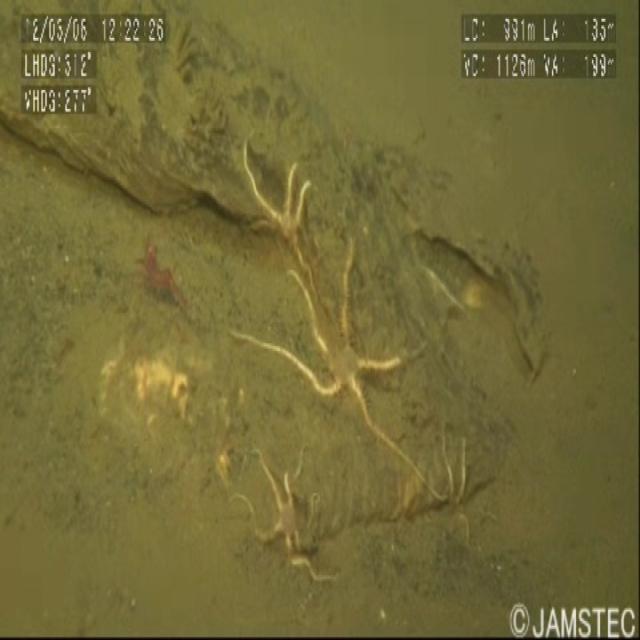Natual-Debris: (225, 124, 479, 584), (84, 288, 202, 458)
Rope: (0, 0, 551, 640)
